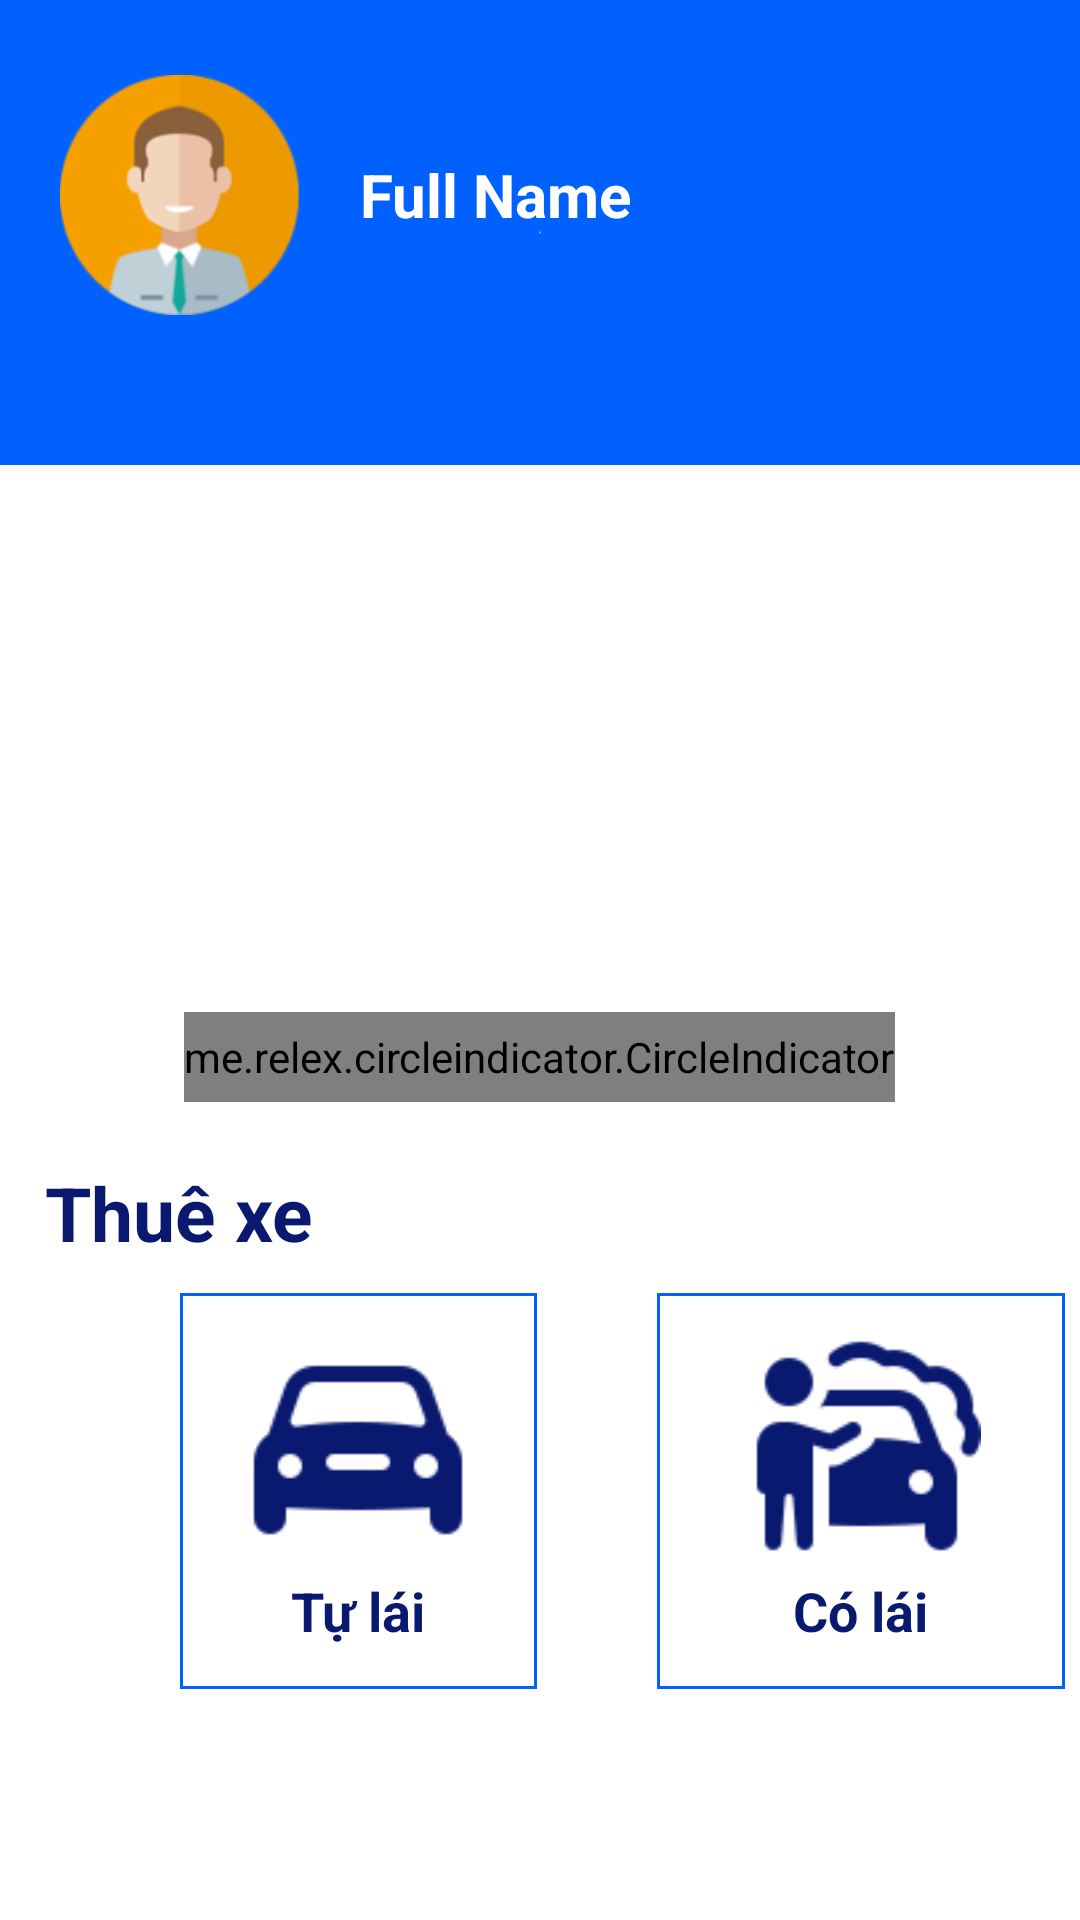

Icons on this 1080w x 1920h Android screen, each with its box as (x1, y1, x2, y2):
iconcarblue: (253, 1365, 463, 1535)
iconmanwithcar: (756, 1341, 981, 1551)
